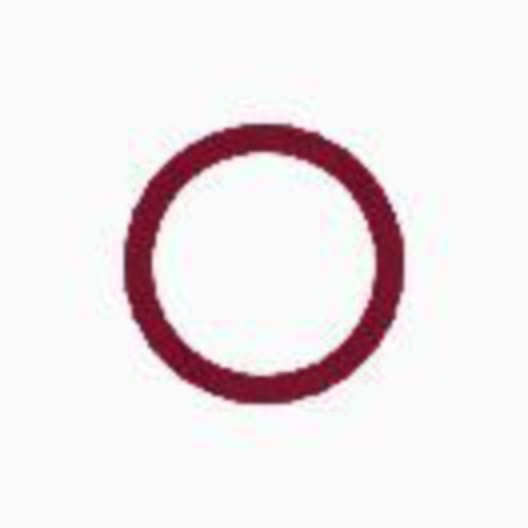RadioButton: (1, 1, 527, 527)
